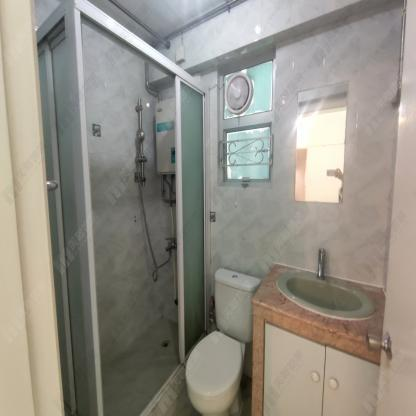Exhaust Fan: (222, 72, 255, 114)
Toilet: (185, 268, 260, 416)
Toilet Sink: (251, 262, 386, 365)
Water Cubicle: (33, 0, 211, 416)
